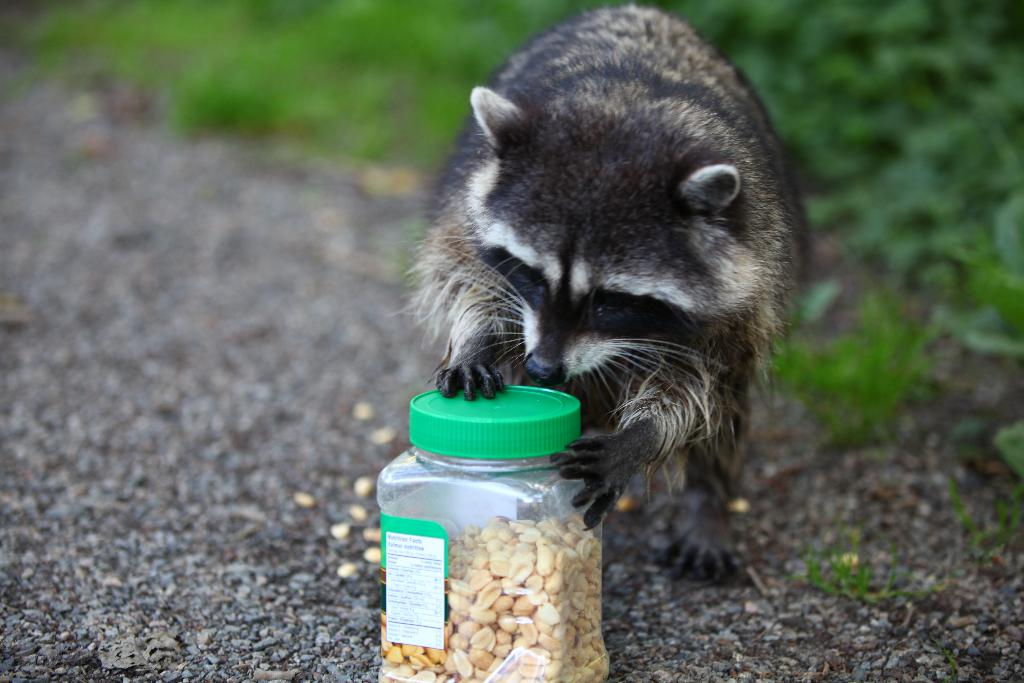raccoon: (407, 3, 808, 583)
